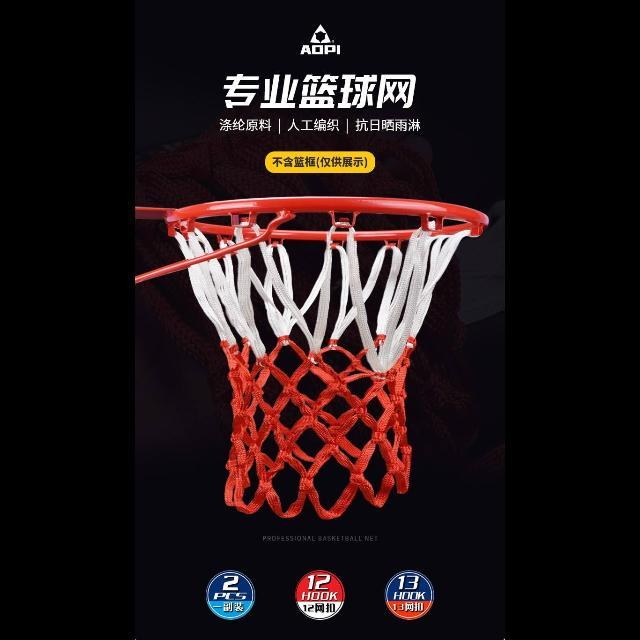rim: (164, 195, 488, 521)
